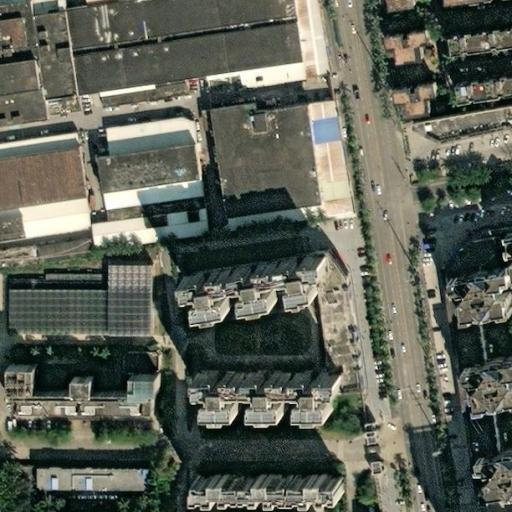building: (439, 231, 512, 504), (212, 103, 327, 223), (176, 254, 325, 321), (314, 260, 370, 423), (19, 375, 180, 424), (198, 373, 343, 418), (0, 150, 84, 211), (92, 145, 193, 194), (86, 210, 201, 252), (311, 100, 351, 220), (97, 180, 197, 224), (397, 121, 512, 157), (31, 13, 77, 103), (195, 474, 341, 498), (102, 119, 192, 157), (452, 282, 512, 332), (36, 469, 149, 492), (465, 369, 512, 420), (445, 74, 512, 108), (94, 83, 181, 109), (0, 8, 37, 67), (107, 293, 153, 336), (445, 32, 512, 61), (471, 448, 512, 495), (0, 132, 71, 158), (234, 65, 304, 90), (104, 265, 148, 295), (36, 274, 99, 287), (199, 74, 236, 95), (393, 90, 433, 109), (379, 38, 420, 53), (382, 0, 408, 15), (1, 278, 40, 287), (390, 50, 408, 67), (406, 105, 425, 120), (392, 74, 402, 79), (389, 82, 397, 88)
